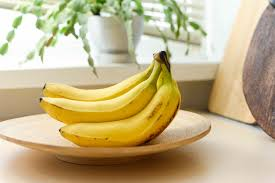banana: (35, 52, 182, 149)
